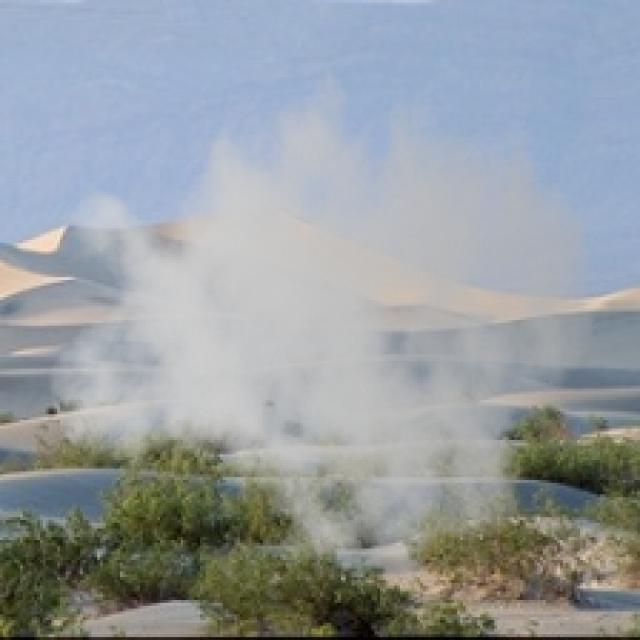smoke: (46, 40, 597, 600)
